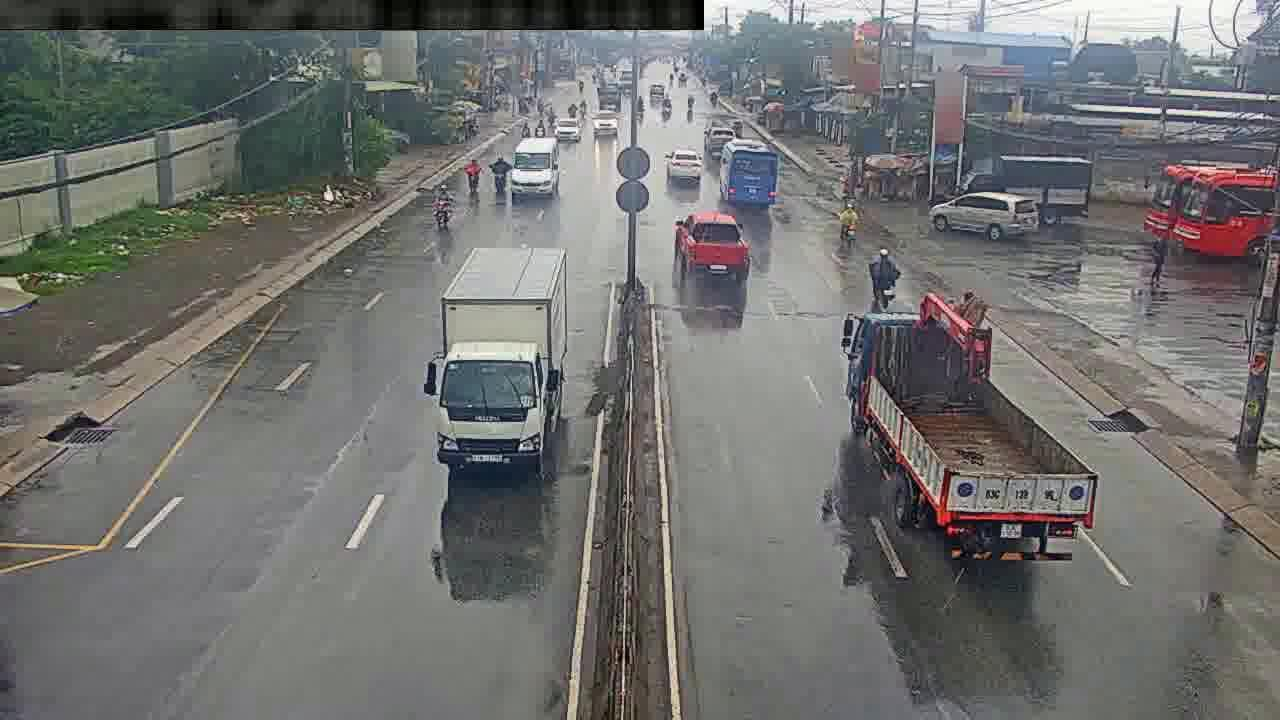14: (510, 139, 560, 198)
8: (846, 293, 1100, 557), (435, 245, 574, 471), (721, 145, 770, 204)
container: (687, 212, 743, 279), (718, 150, 774, 212), (669, 145, 701, 181)
motorbike: (872, 243, 897, 301), (435, 187, 454, 235), (492, 153, 511, 194), (840, 203, 857, 242), (466, 154, 481, 194), (657, 79, 671, 109)
